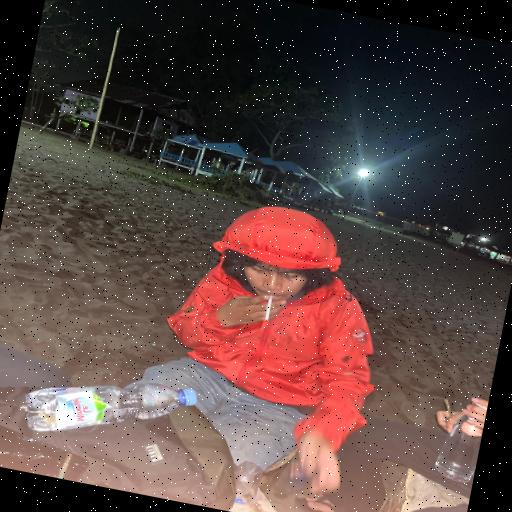terdeteksi merokok: (234, 248, 319, 334)
